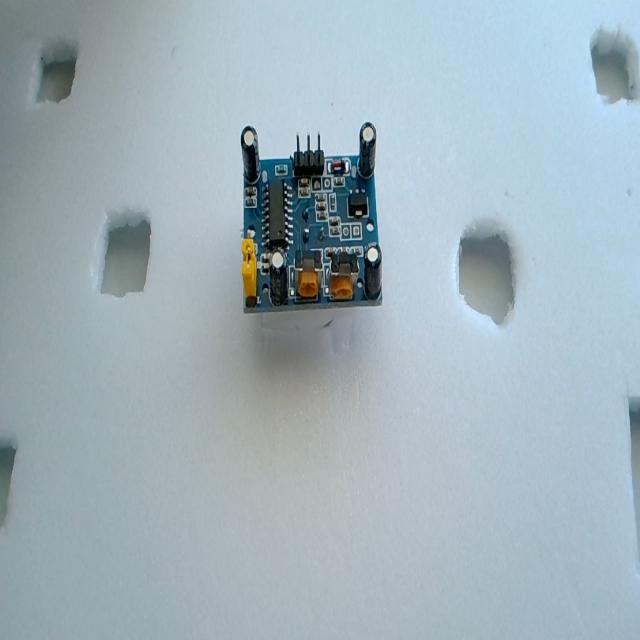Electrolytic capacitor: (240, 125, 261, 185), (269, 250, 288, 305), (359, 122, 377, 180), (364, 245, 382, 300)
IC: (261, 178, 291, 251)
pinheader: (292, 131, 324, 178)
